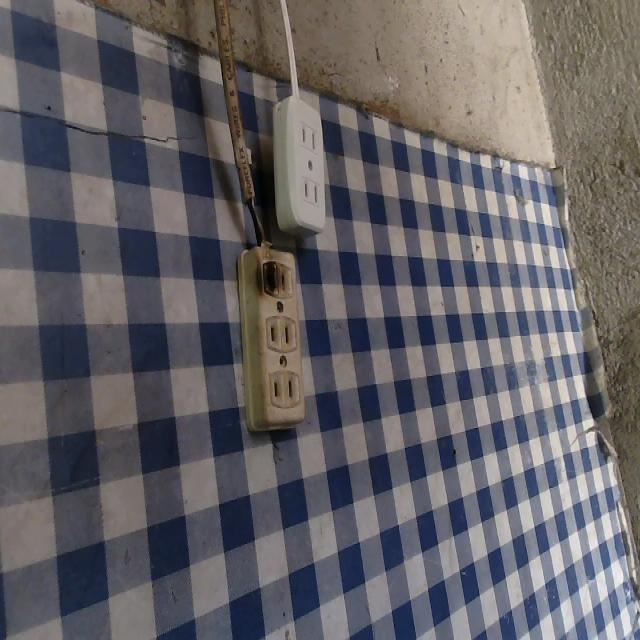-: (257, 256, 282, 297)
